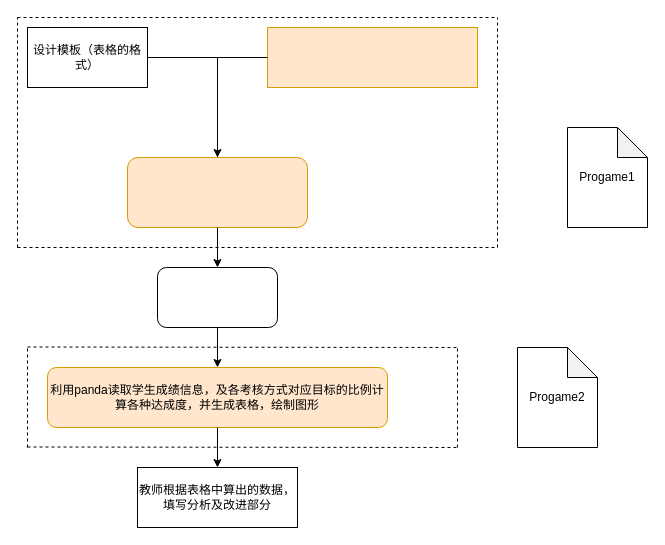
Some shapes in this 665 by 545 pixel diagram are drawn without their labels. Each missing label, with the centre of its shape:
利用python的交互式命令（input)获取对表格样式有影响的数据，包括人数，目标数，考核方式数量等: the point at 372,57
提示教师在生成的表格中填入学生的成绩: the point at 217,297
根据输入的信息及模板，利用panda生成表格，主要包括基础信息表和学生成绩表的表头: the point at 217,192
